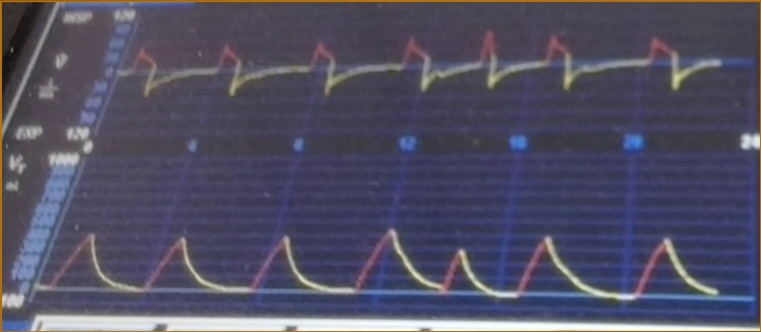Premature_cycling Flow: (127, 24, 720, 125)
Premature_cycling Volume: (51, 224, 719, 312)
